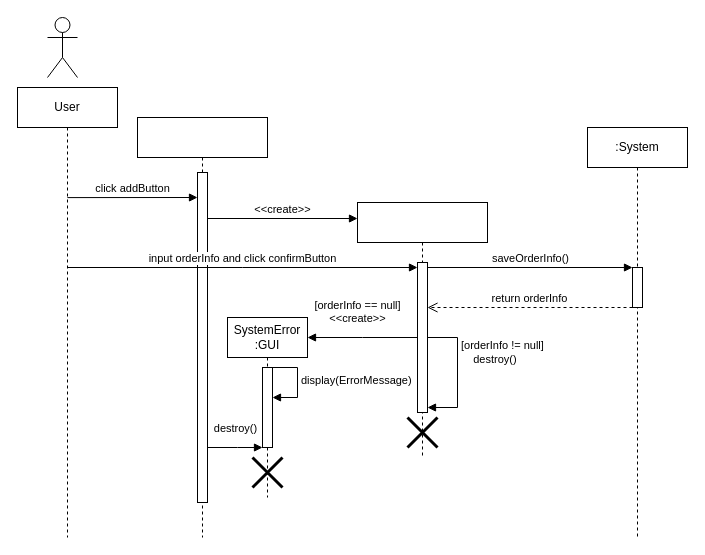
Image size: 705x555. Some labels were removed from this diagram. Here are the shapes that lost their labels. From the top down, the box of each, then its label:
(136, 116, 268, 538): OrderManagePage :GUI
(356, 202, 488, 458): AddOrderInfoDialog :GUI
